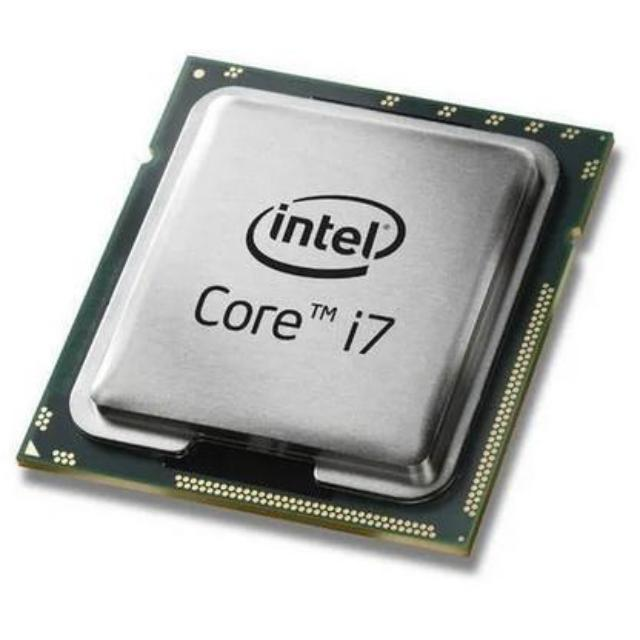CPU: (26, 58, 600, 556)
